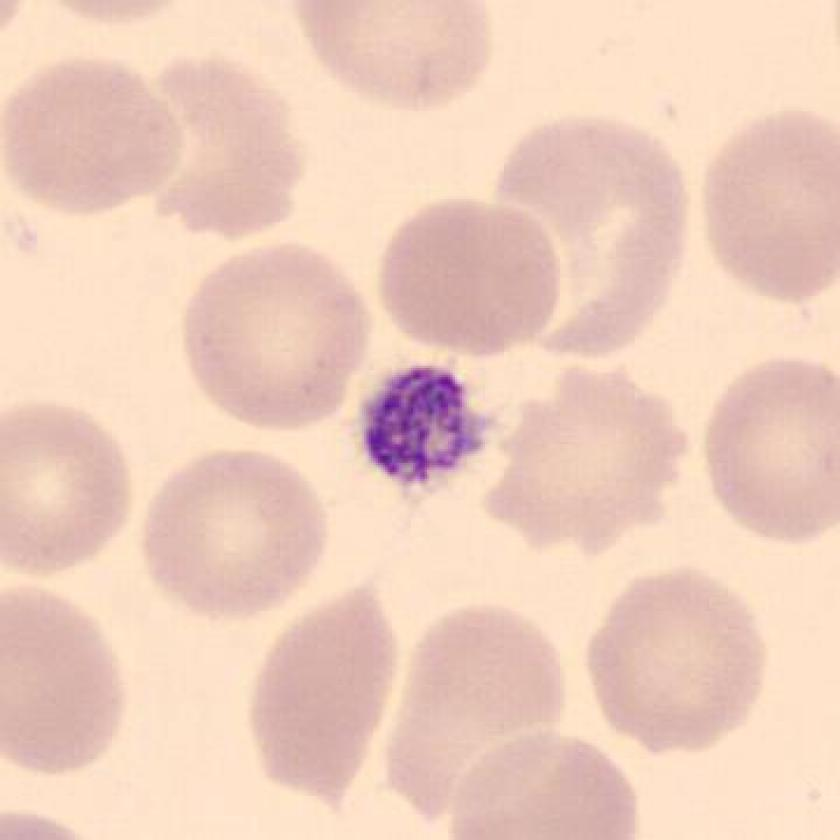platelets: (351, 353, 496, 503)
